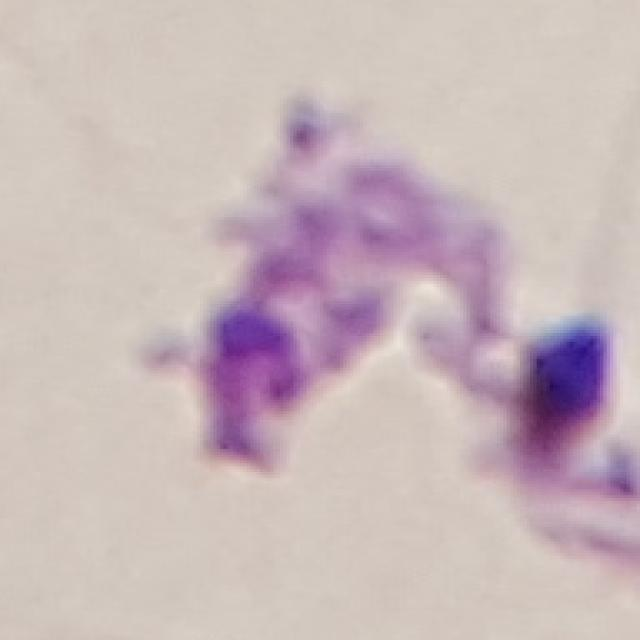non-sperm: (185, 98, 620, 474)
